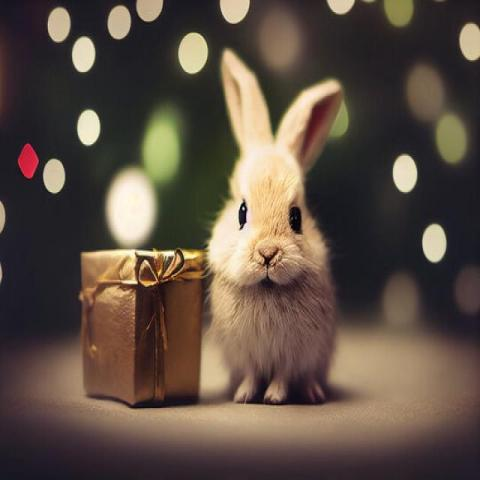small_animal: (203, 46, 345, 406)
